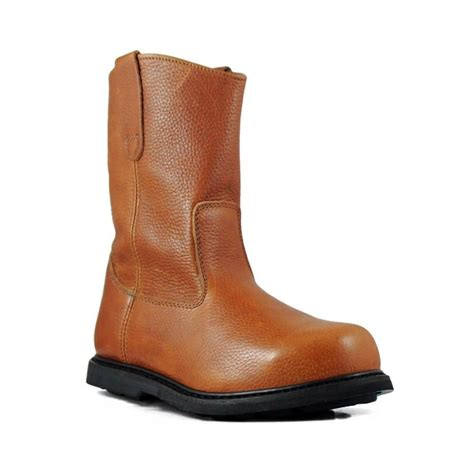cuero: (90, 50, 383, 396)
